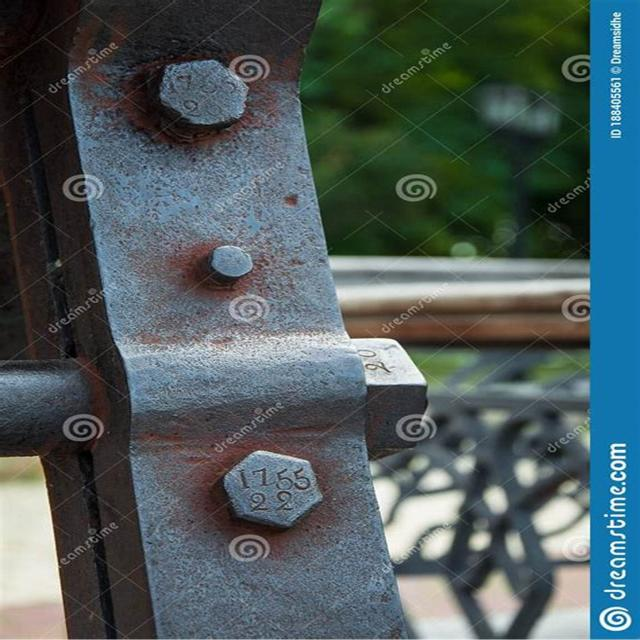bolt head: (217, 447, 323, 534), (144, 56, 256, 136)
